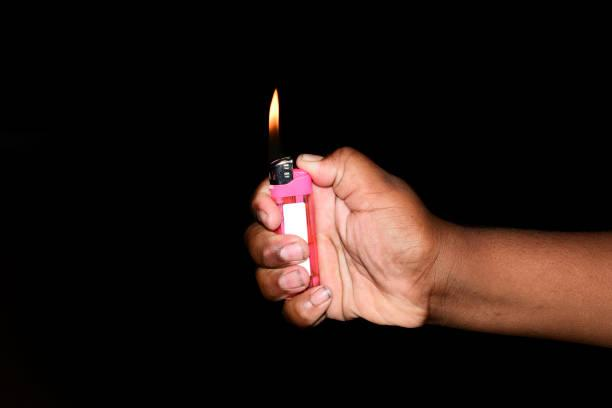Fire: (264, 86, 284, 138)
